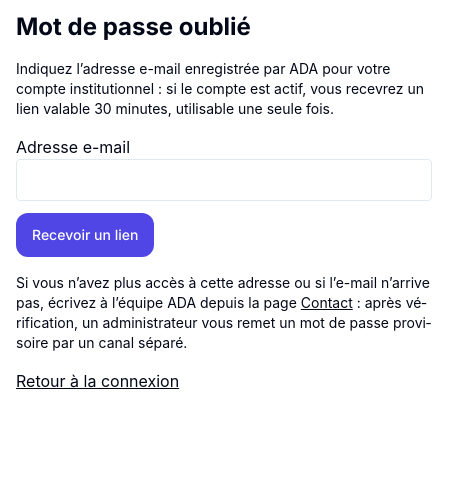
Test: R24 institutional self-service reset (owner decision R21.1) › « mot de passe oublié » announces the neutral answer and keeps ADA's hand-over as fallback
The width and height of the screenshot is (449, 494).
Expected: the element with test id "institution-forgot-fallback" shows "un administrateur vous remet un mot de passe provisoire", [16,294,431,351]
Click the button "Recevoir un lien" at (85, 235), box [16,213,154,257]
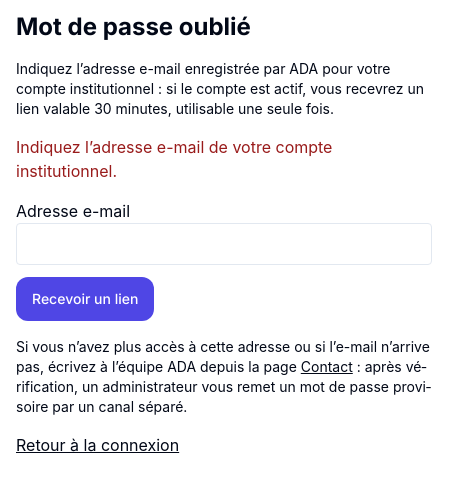
Now the message shows "Indiquez l’adresse e-mail", box [16,137,332,181]
Type "partenaire@example.test" into the field labelled "Adresse e-mail" at (224, 244), box [16,223,432,265]
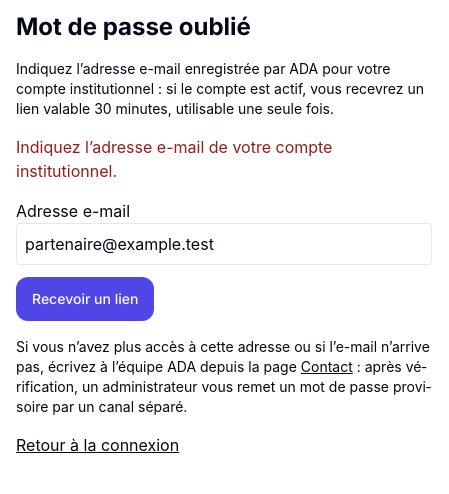
Click the button "Recevoir un lien" at (85, 299), box [16,277,154,321]
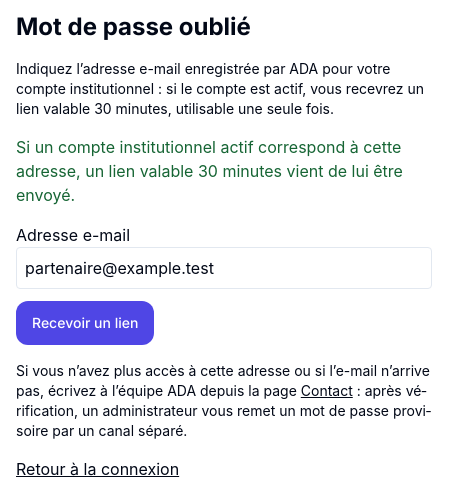
Now the message with test id "institution-forgot-done" shows "vient de lui être envoyé", box [16,137,403,205]
